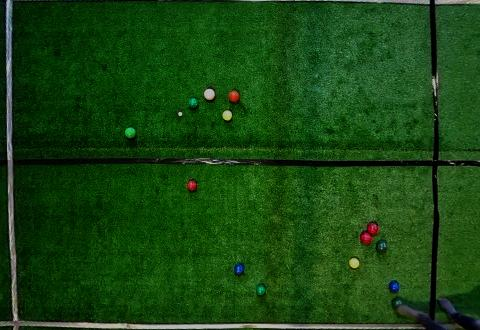blue: (234, 263, 244, 275), (389, 281, 399, 293)
green: (376, 240, 388, 252), (392, 297, 403, 309), (125, 127, 137, 138), (256, 283, 266, 296), (188, 98, 198, 108)
red: (228, 90, 240, 103), (366, 223, 379, 235), (204, 88, 216, 100), (360, 232, 372, 244), (187, 180, 197, 191)
vline: (429, 1, 479, 317), (0, 1, 23, 329)
white: (178, 112, 182, 116)
yellow: (221, 110, 233, 121), (349, 258, 360, 269)
